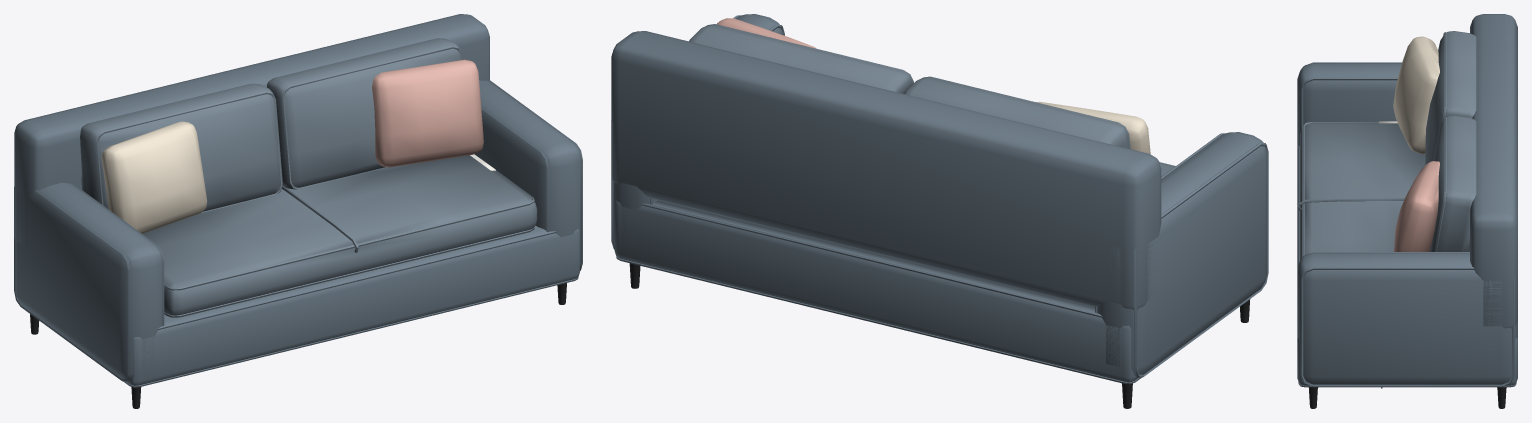
The model's file is sofaBed.glb.
3 views of the same model, side by side, from view 1: azimuth 30°, elevation 25°; view 2: azimuth 150°, elevation 25°; view 3: azimuth 270°, elevation 25° (orthographic). The views are drawn at different scales.
Parts seen in each view (by area): view 1: sofa; view 2: sofa; view 3: sofa.
Part boxes in pixels (x1,y1,x2,y2): sofa: [14, 14, 582, 408]; sofa: [611, 14, 1268, 408]; sofa: [1297, 14, 1517, 408].
Bounding box in the file's own units: 1.86 × 0.8322 × 0.831.
